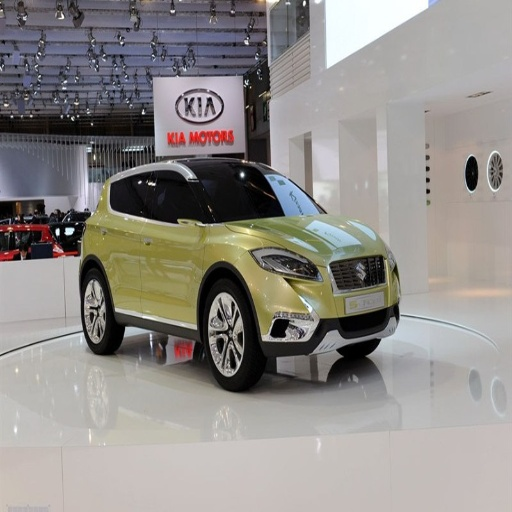front_bumper: (251, 255, 399, 353)
front_right_door: (143, 171, 201, 321)
front_right_light: (252, 248, 318, 280)
